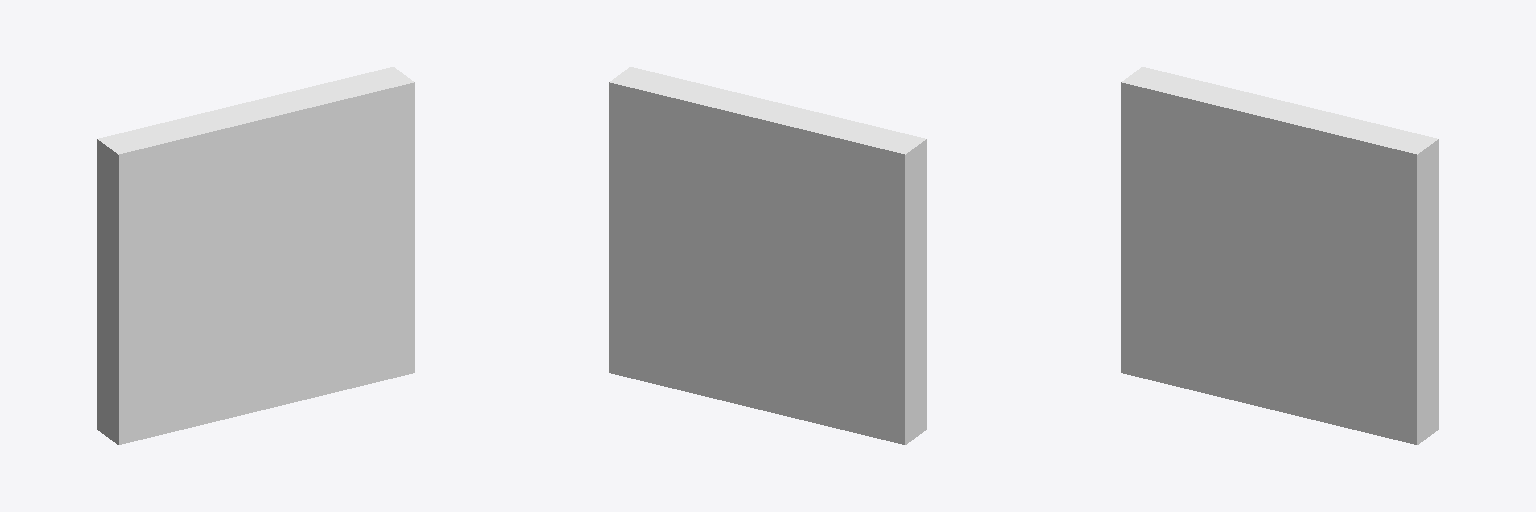
Rendered from PictureOfPineTree.obj.
The picture shows the model from 3 angles: view 1: azimuth 30°, elevation 25°; view 2: azimuth 150°, elevation 25°; view 3: azimuth 330°, elevation 25°; orthographic projection.
Bounding box in the file's own units: 16 × 15 × 2.